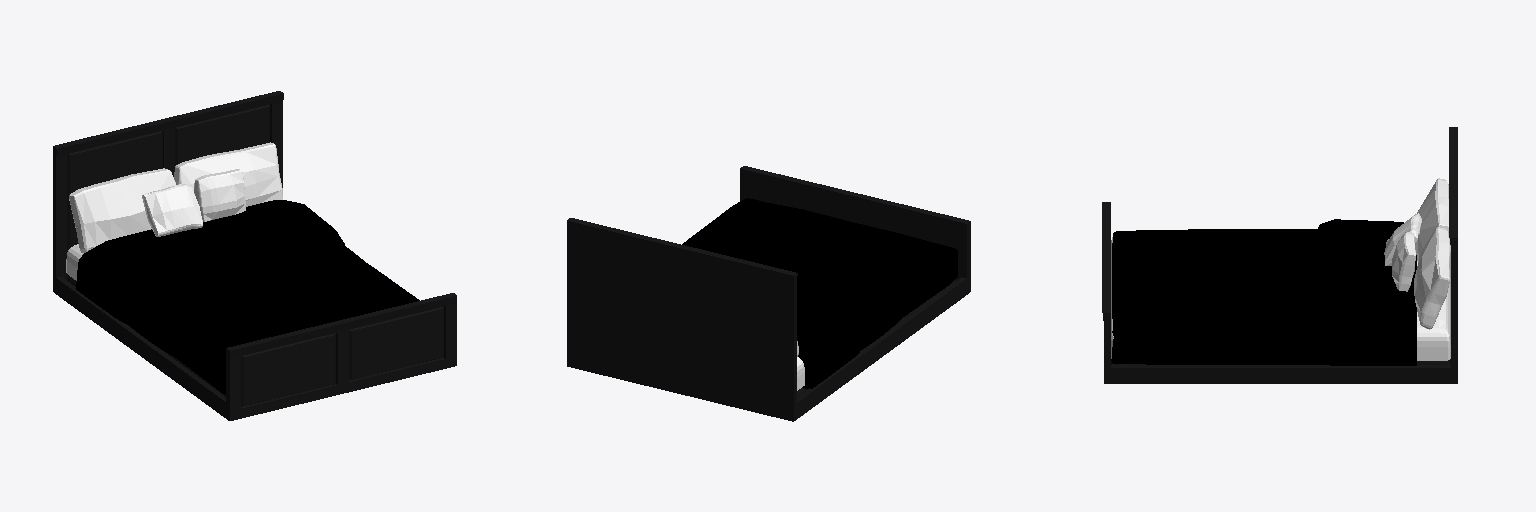
Rendered from bed.obj.
3 renders of one model, left to right at view 1: azimuth 30°, elevation 25°; view 2: azimuth 150°, elevation 25°; view 3: azimuth 270°, elevation 25°, orthographic.
Visible parts, largest first — view 1: Full_Size_Bed_with_White_Sheets_Black_V1:Box14549; view 2: Full_Size_Bed_with_White_Sheets_Black_V1:Box14549; view 3: Full_Size_Bed_with_White_Sheets_Black_V1:Box14549.
Boxes of the visible parts, x1=… form: Full_Size_Bed_with_White_Sheets_Black_V1:Box14549: x1=53, y1=91, x2=456, y2=420; Full_Size_Bed_with_White_Sheets_Black_V1:Box14549: x1=567, y1=166, x2=970, y2=421; Full_Size_Bed_with_White_Sheets_Black_V1:Box14549: x1=1102, y1=127, x2=1457, y2=383.
Bounding box in the file's own units: 30.92 × 18.84 × 41.53.